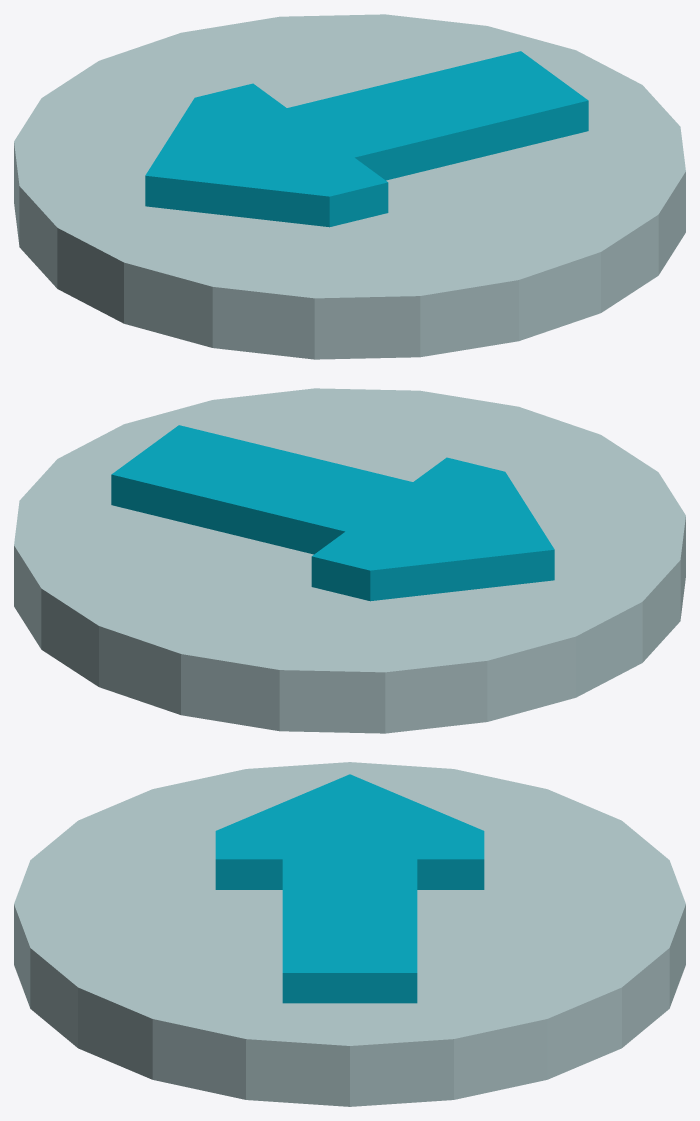
File: rotate-left-trigger.glb
3 renders of one model, top to bottom at view 1: azimuth 30°, elevation 25°; view 2: azimuth 150°, elevation 25°; view 3: azimuth 270°, elevation 25°, orthographic.
Parts seen in each view (by area): view 1: Mesh_Mesh_head_geo.001_lambert2SG.001; view 2: Mesh_Mesh_head_geo.001_lambert2SG.001; view 3: Mesh_Mesh_head_geo.001_lambert2SG.001.
Part boxes in pixels (<box>): Mesh_Mesh_head_geo.001_lambert2SG.001: <box>14,14,685,359</box>; Mesh_Mesh_head_geo.001_lambert2SG.001: <box>14,388,685,733</box>; Mesh_Mesh_head_geo.001_lambert2SG.001: <box>14,762,685,1106</box>.
Bounding box in the file's own units: 5 × 0.75 × 5.
